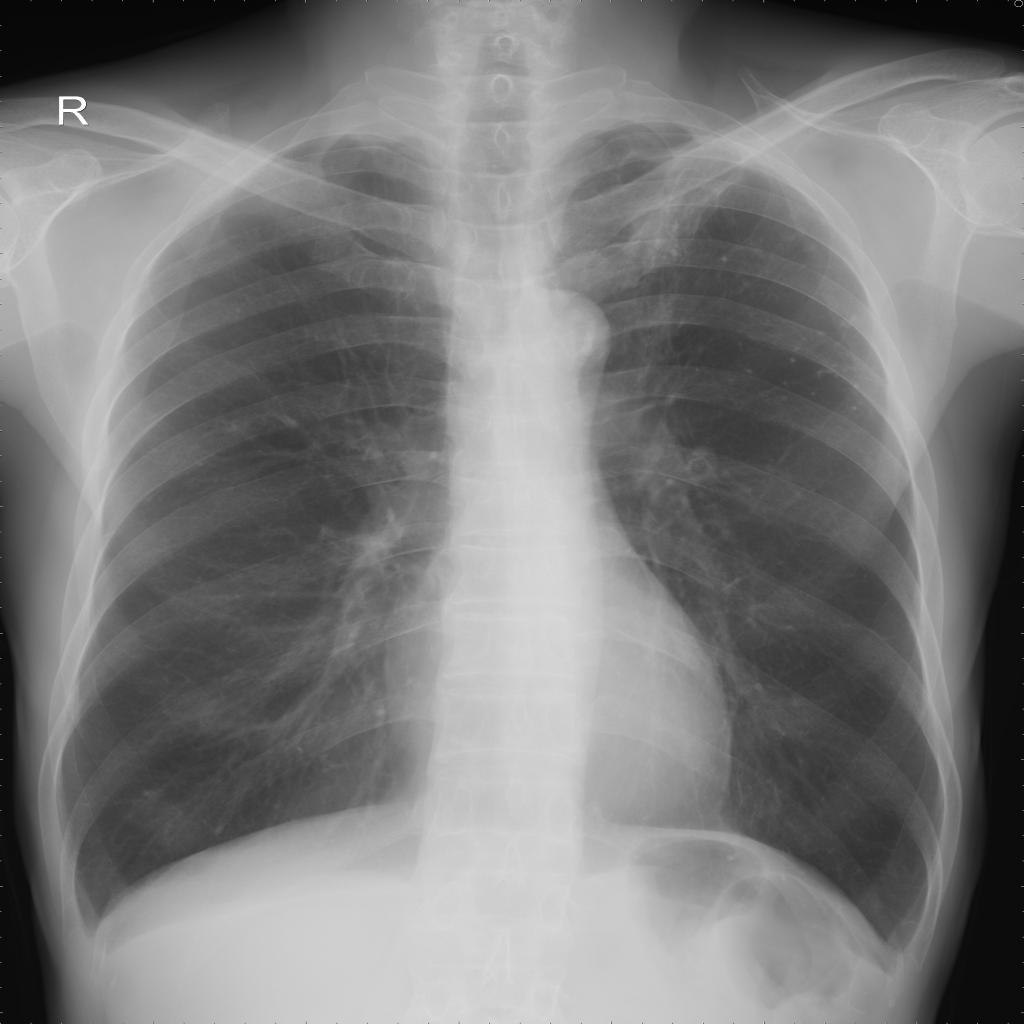Nodule: (734, 316, 873, 410), (804, 243, 819, 254)
